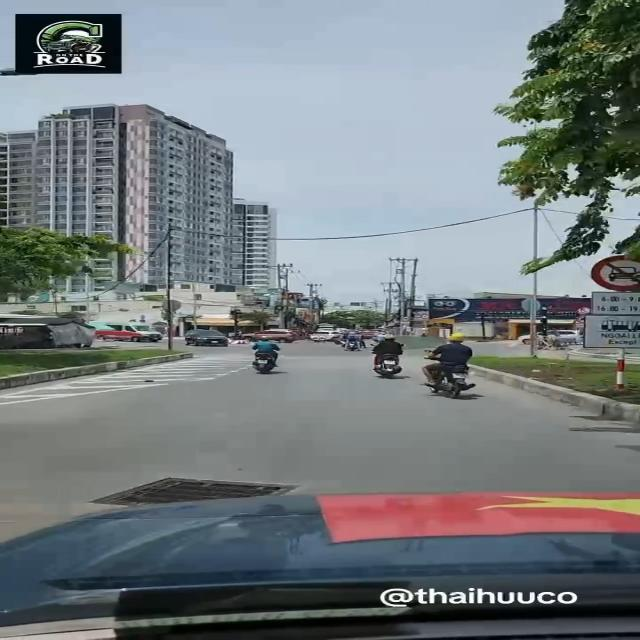103a-cam-oto: (591, 254, 640, 292)
